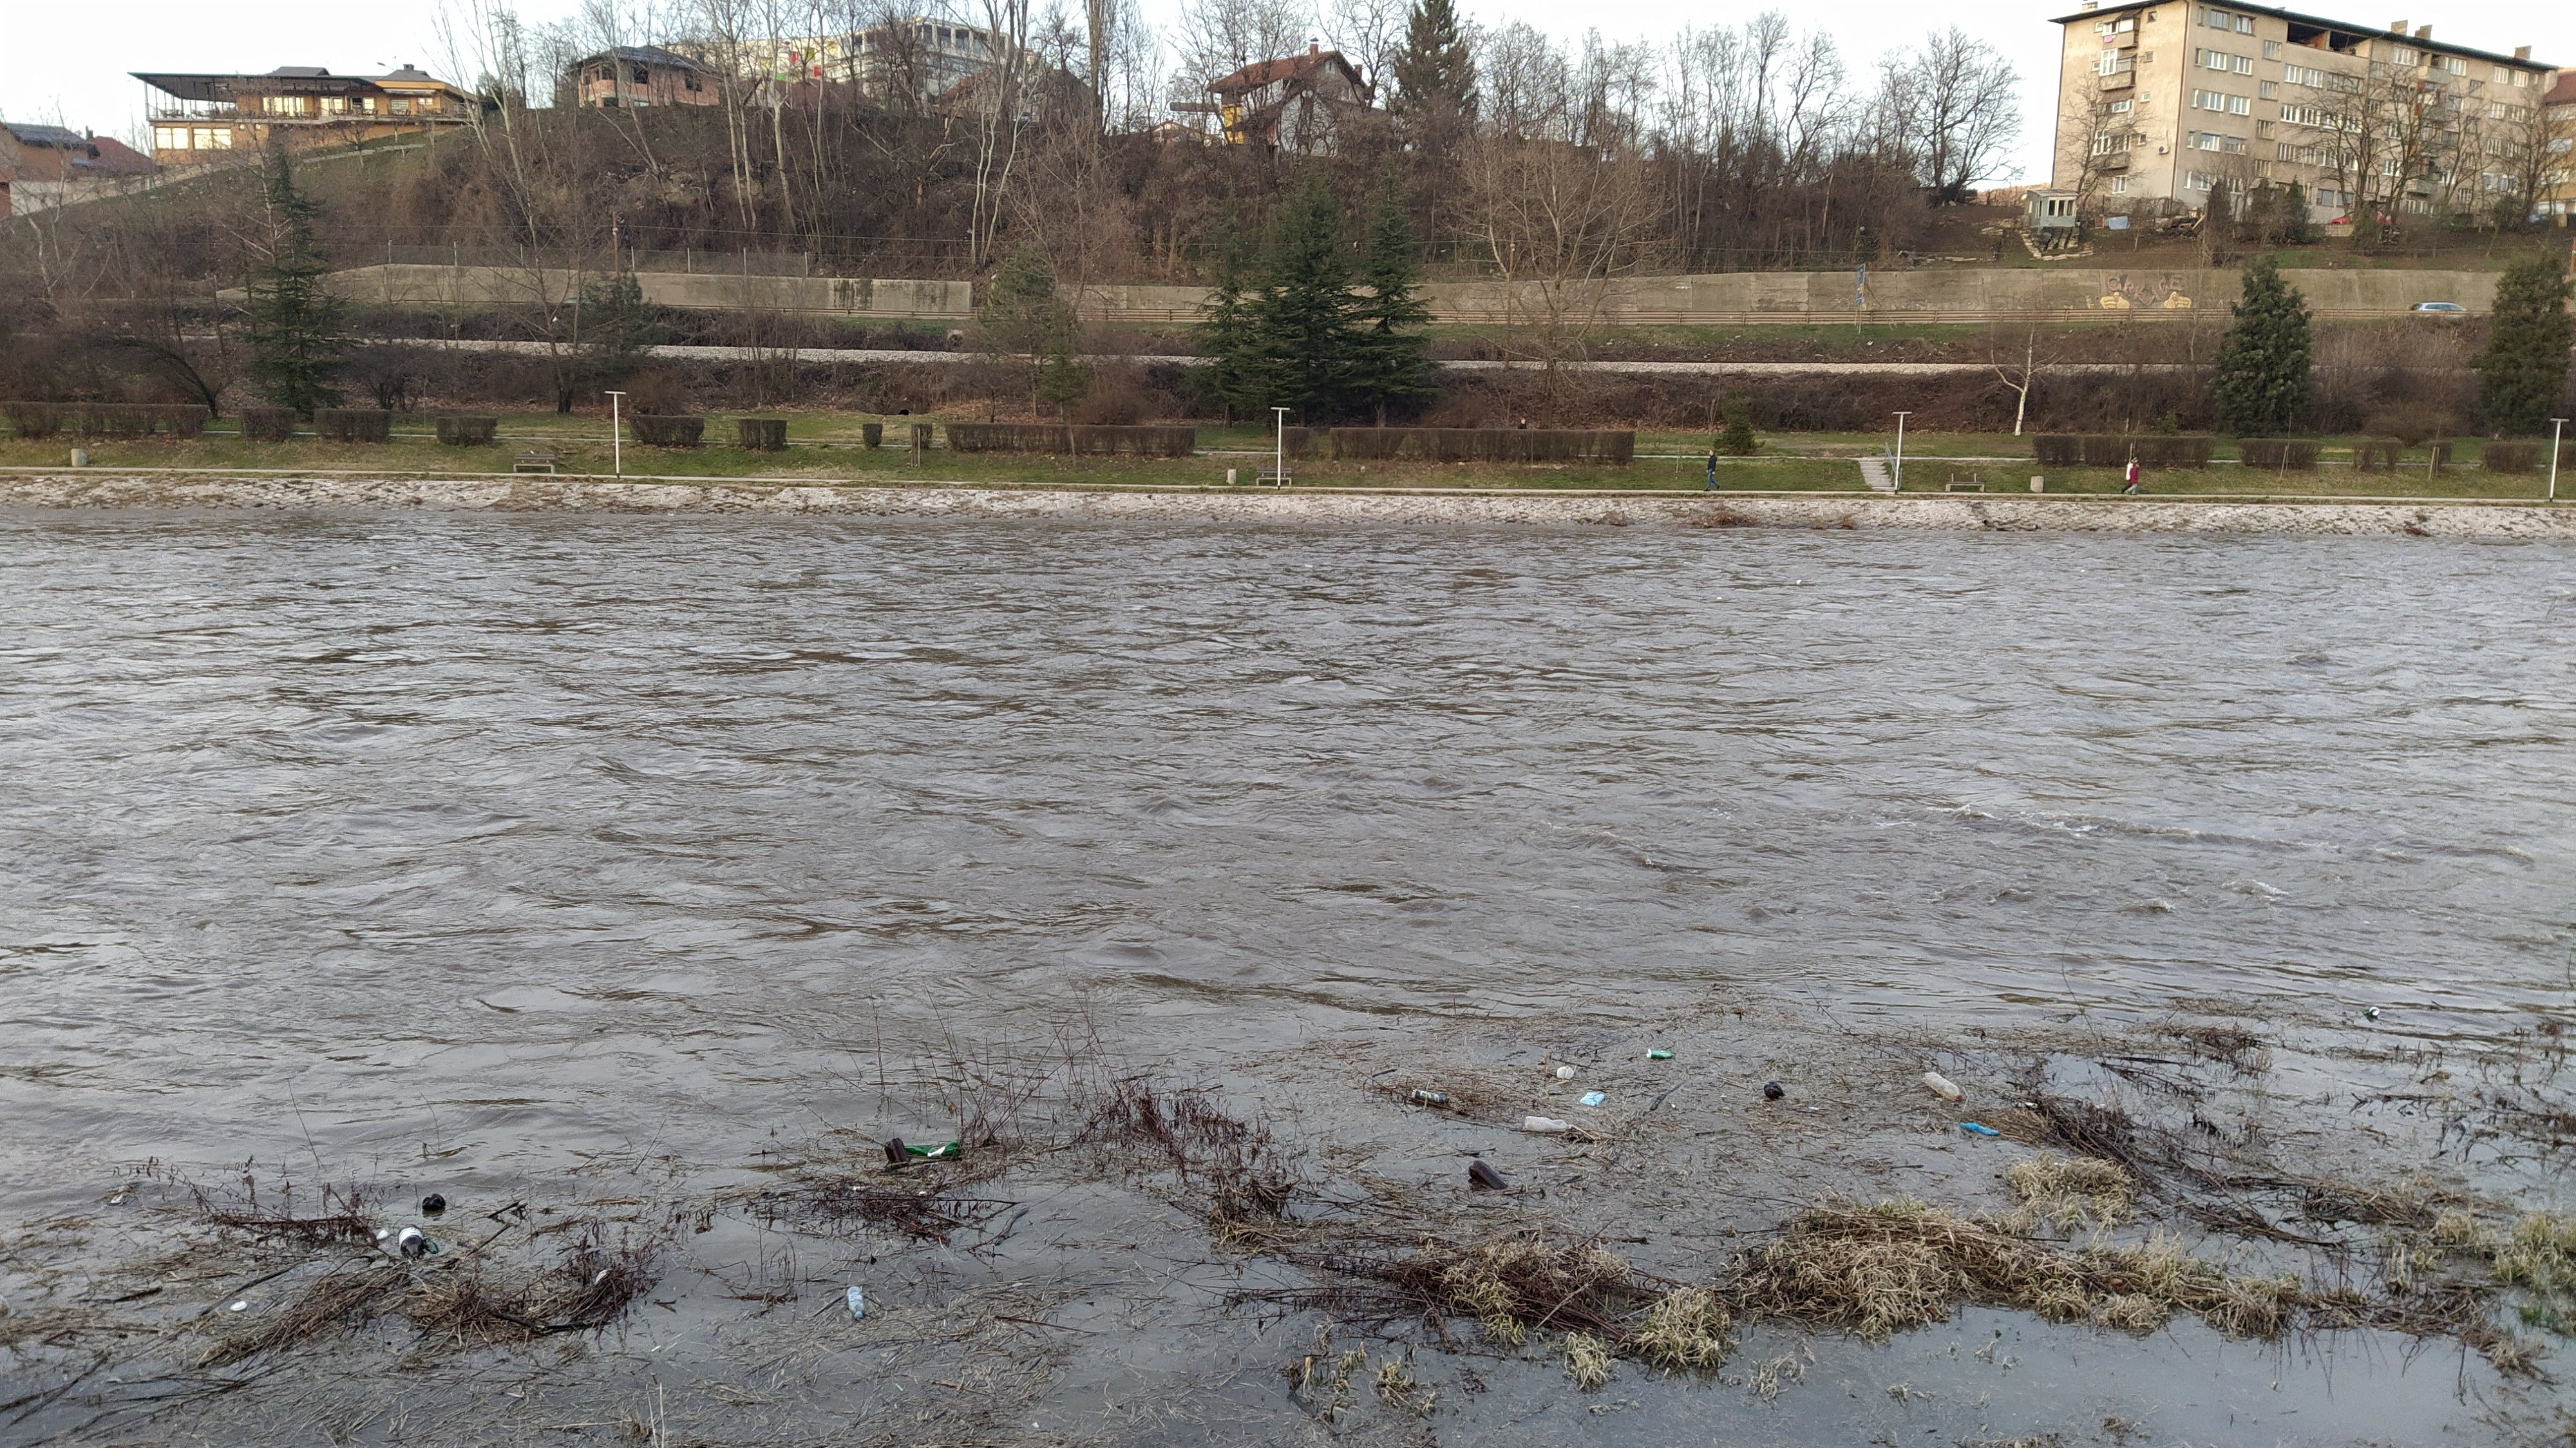Plastic Bottle: (1923, 1071, 1962, 1101), (1468, 1159, 1507, 1190), (396, 1223, 425, 1260), (906, 1142, 961, 1159), (1522, 1117, 1571, 1133), (846, 1285, 865, 1321), (885, 1138, 908, 1167), (1959, 1119, 1996, 1135), (1410, 1090, 1447, 1103), (421, 1193, 446, 1211), (1764, 1082, 1783, 1099), (1645, 1050, 1672, 1059), (425, 1237, 439, 1253), (1555, 1066, 1573, 1078), (2362, 1007, 2380, 1016), (205, 582, 216, 586)
